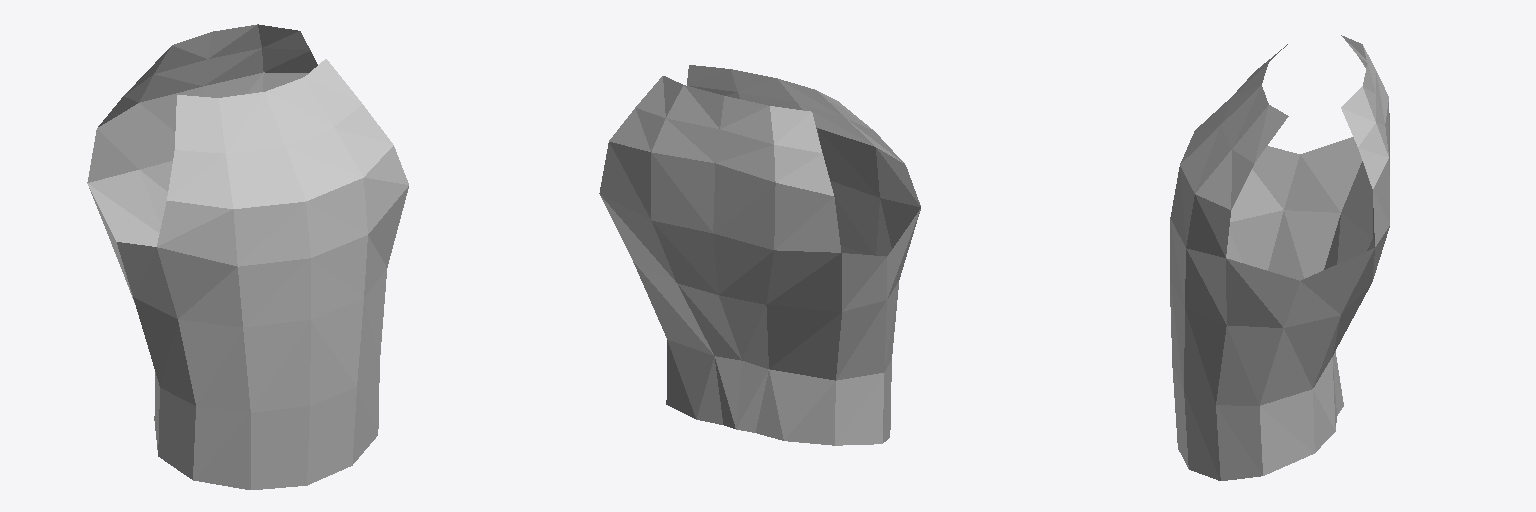
The model's file is body.obj.
The picture shows the model from 3 angles: view 1: azimuth 30°, elevation 25°; view 2: azimuth 150°, elevation 25°; view 3: azimuth 270°, elevation 25°; orthographic projection.
Visible parts, largest first — view 1: Base.002_Cylinder.004; view 2: Base.002_Cylinder.004; view 3: Base.002_Cylinder.004.
Part boxes in pixels (left/top/right/bottom): Base.002_Cylinder.004: left=87, top=24, right=408, bottom=489; Base.002_Cylinder.004: left=599, top=65, right=920, bottom=445; Base.002_Cylinder.004: left=1170, top=35, right=1389, bottom=480.
Bounding box in the file's own units: 0.5462 × 0.7754 × 0.4034.